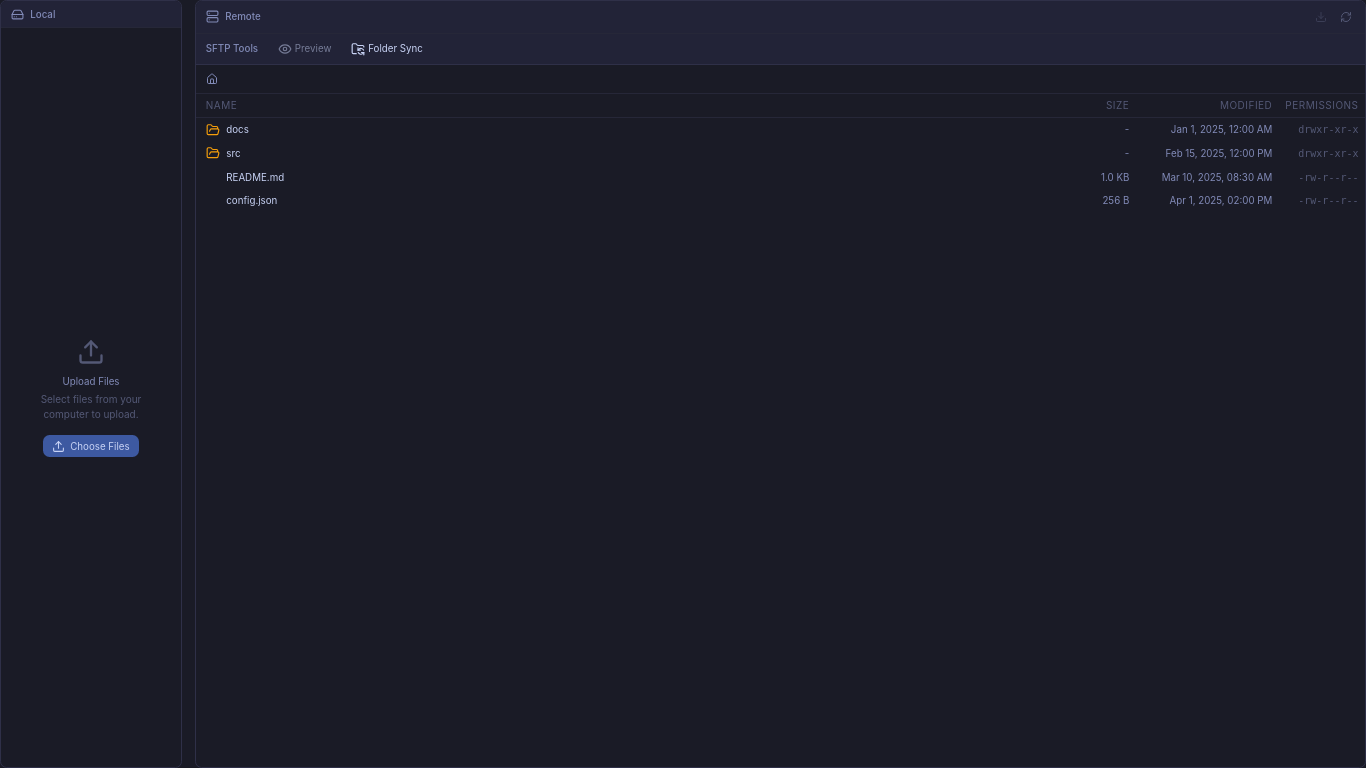
Scenario: SftpBrowser › FT-C-27: breadcrumb click navigates back to root
The image size is (1366, 768).
expect the text "README.md" is shown: met, box [226,171,284,184]
Double-click the "docs" directory to navigate into it
Double-click the text "docs".
double_click(1222, 130)  # box [196,117,1365,142]
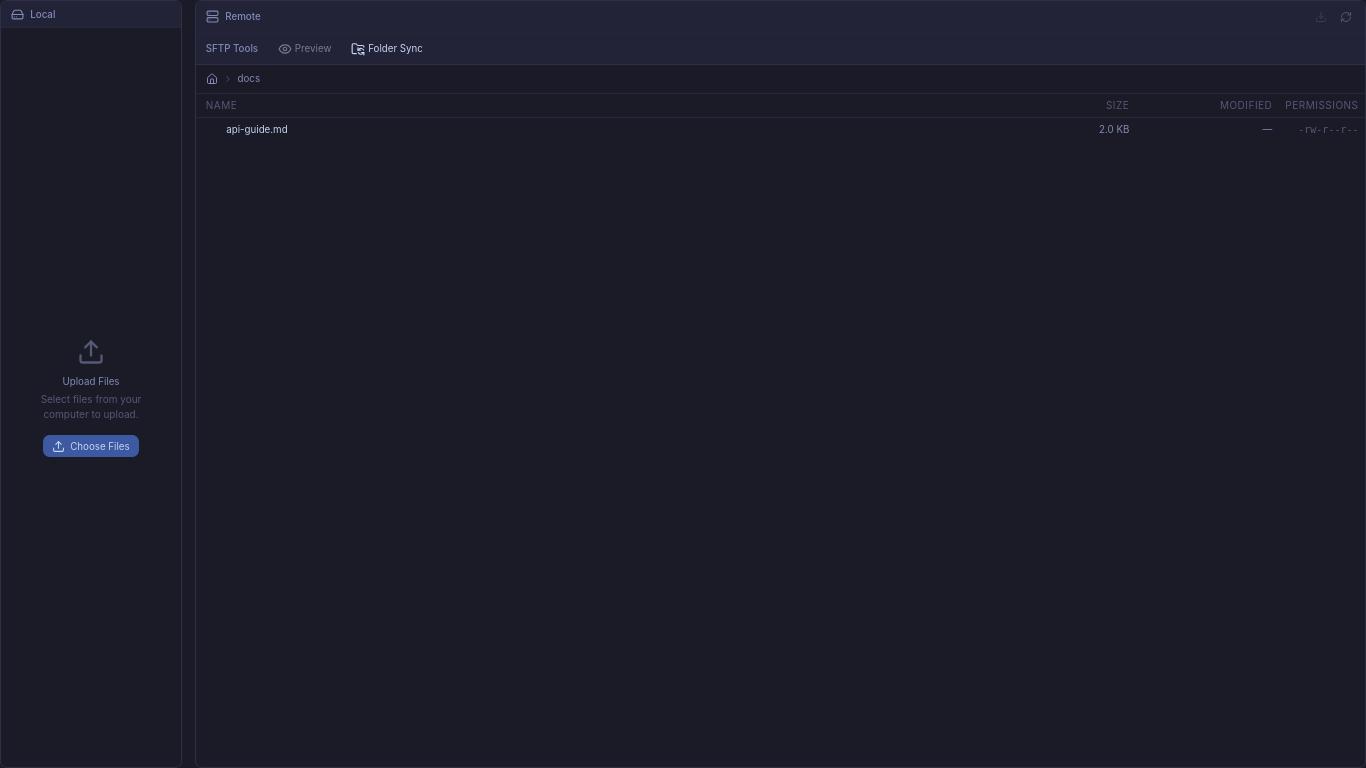
expect the text "api-guide.md" is shown: met, box [226,123,288,136]
Click the 5th button.
click(212, 79)  # box [202,70,221,88]
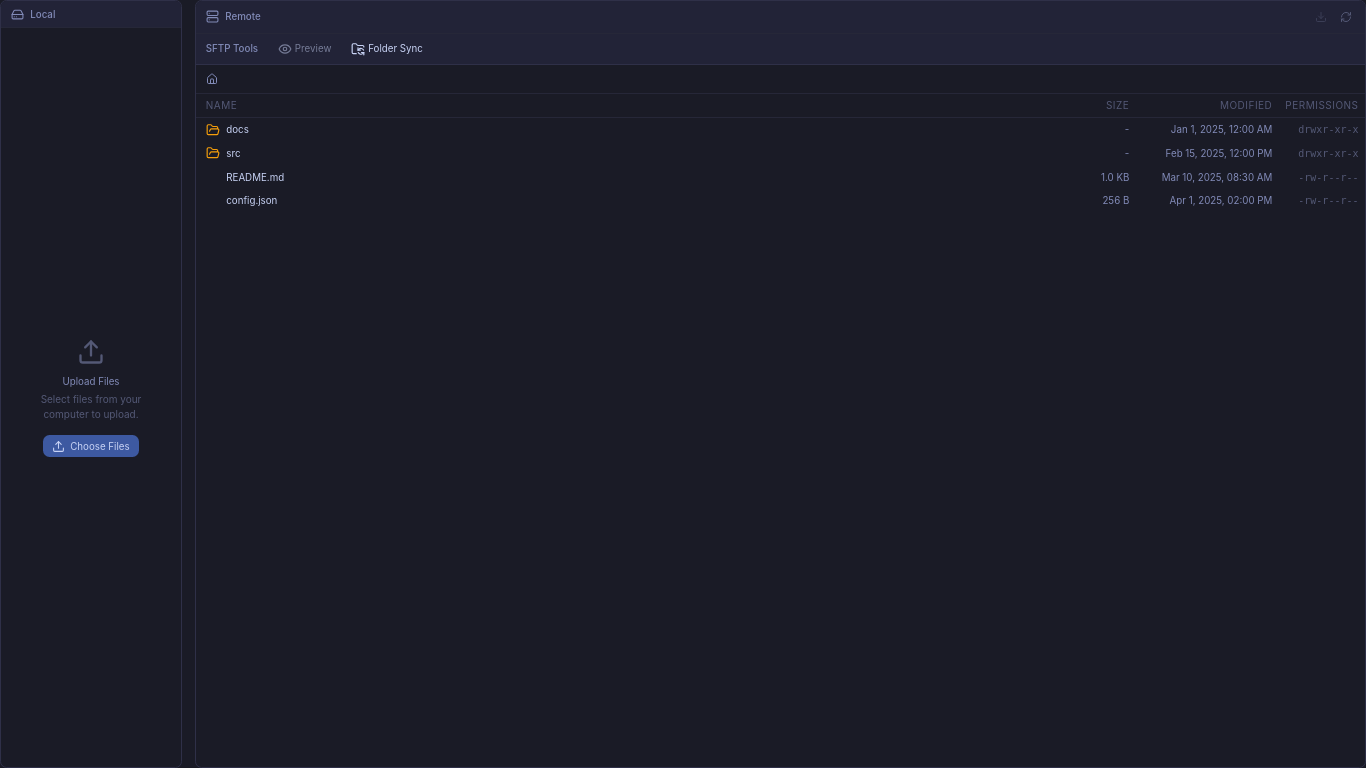
expect the text "README.md" is shown: met, box [226,171,284,184]
